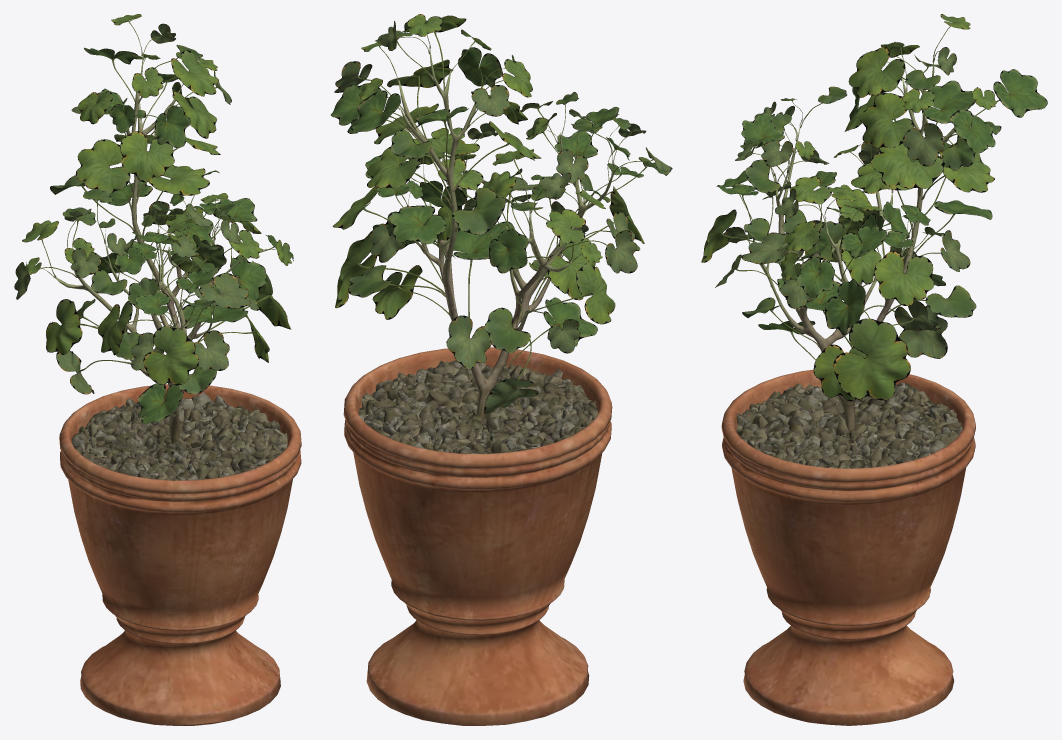
The model's file is potted_plant_01.glb.
3 views of the same model, side by side, from view 1: azimuth 30°, elevation 25°; view 2: azimuth 150°, elevation 25°; view 3: azimuth 270°, elevation 25° (orthographic). The views are drawn at different scales.
Visible parts, largest first — view 1: potted_plant_01_pot, potted_plant_01_leaves, potted_plant_01_pebbles, potted_plant_01_stem; view 2: potted_plant_01_pot, potted_plant_01_leaves, potted_plant_01_pebbles, potted_plant_01_stem; view 3: potted_plant_01_pot, potted_plant_01_leaves, potted_plant_01_pebbles, potted_plant_01_stem.
Part boxes in pixels (<box>): potted_plant_01_pot: <box>59,384,301,725</box>; potted_plant_01_leaves: <box>14,14,293,423</box>; potted_plant_01_pebbles: <box>71,392,287,480</box>; potted_plant_01_stem: <box>54,54,244,443</box>; potted_plant_01_pot: <box>343,347,612,725</box>; potted_plant_01_leaves: <box>331,14,672,414</box>; potted_plant_01_pebbles: <box>359,360,597,453</box>; potted_plant_01_stem: <box>398,49,612,420</box>; potted_plant_01_pot: <box>721,369,975,725</box>; potted_plant_01_leaves: <box>701,14,1047,401</box>; potted_plant_01_pebbles: <box>736,382,962,468</box>; potted_plant_01_stem: <box>753,55,967,431</box>.
Size of the model in its own units: 0.5874 by 1.34 by 0.6336.
2 materials, 2 textured.
